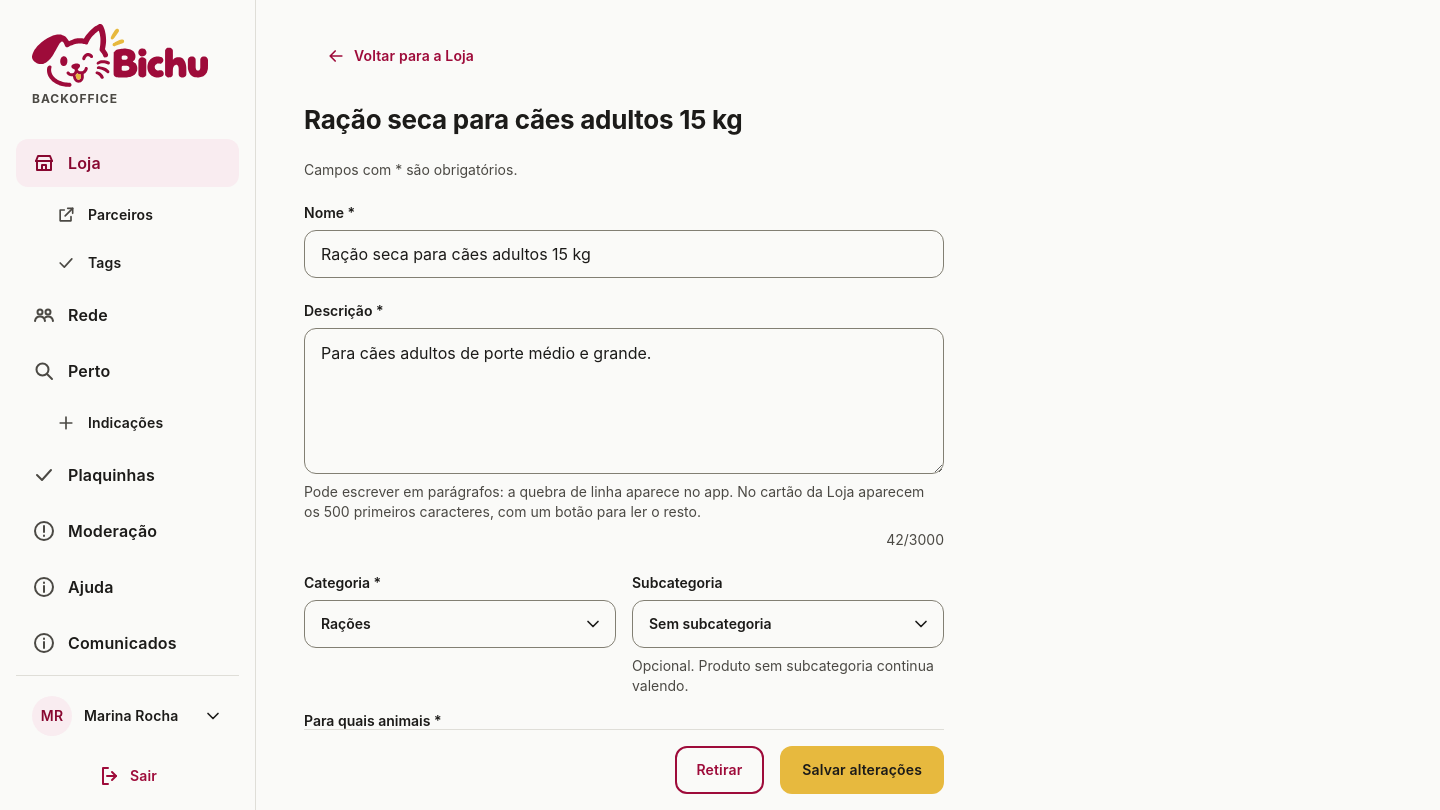
Scenario: defeito 4: retirar com o formulario alterado pede confirmacao › sem alteracao, vai direto para a senha
expect the field labelled "Nome *" is shown: met, box top-left (304, 230), bottom-right (944, 278)
What coordinates should you click on to do the following:
click the button "Retirar"
I would click on:
 (719, 770)
Its box is top-left (674, 746), bottom-right (764, 794).
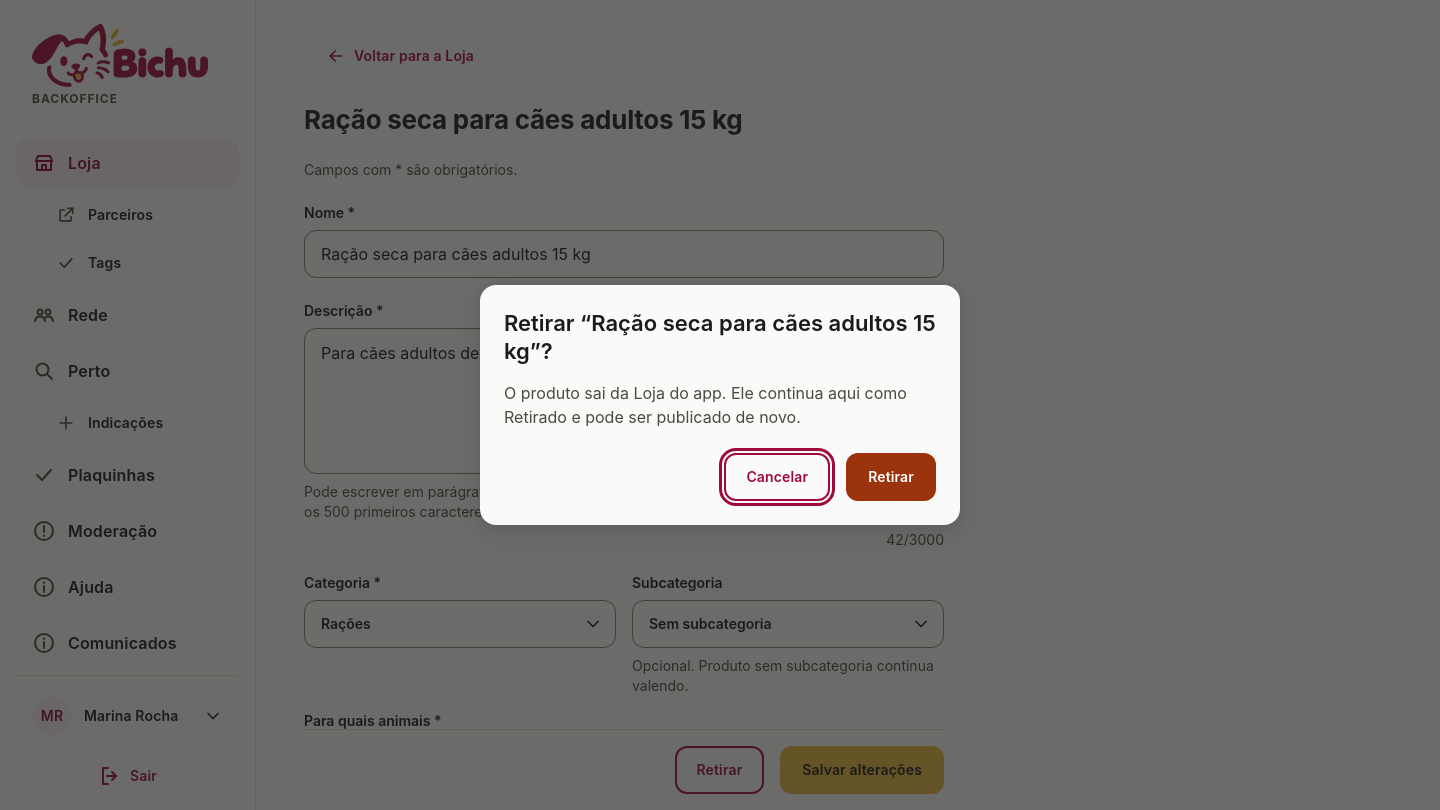
expect the dialog "Retirar “Ração seca para cães adultos 15 kg”?" is shown: met, box top-left (480, 285), bottom-right (960, 525)
